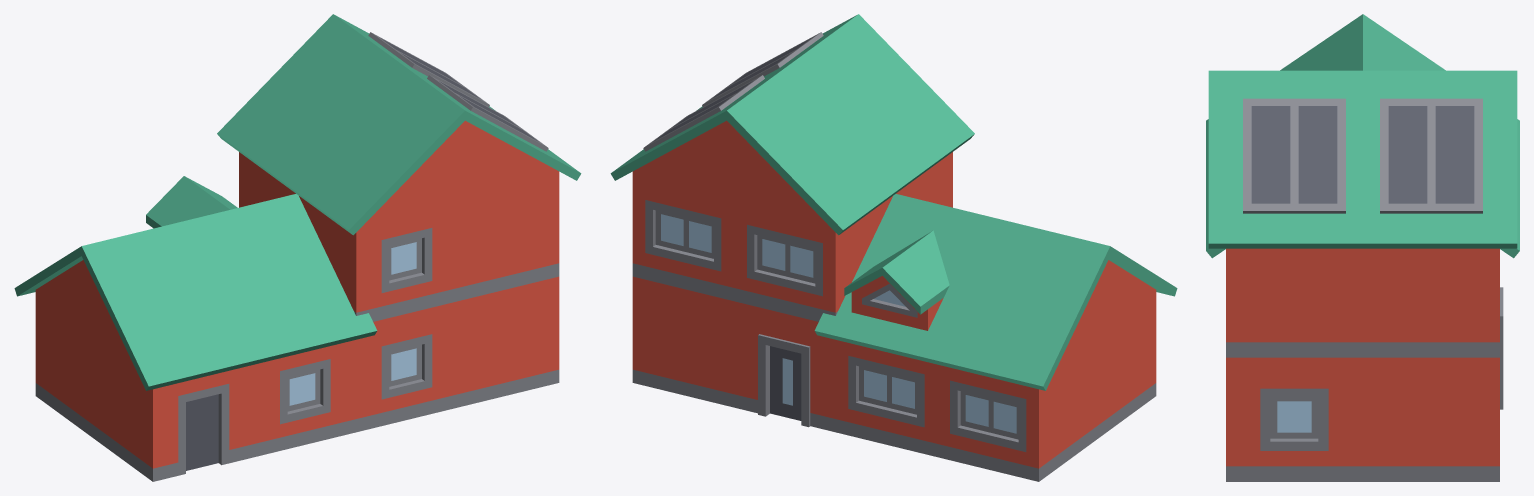
Rendered from house_type03.fbx.
3 views of the same model, side by side, from view 1: azimuth 30°, elevation 25°; view 2: azimuth 150°, elevation 25°; view 3: azimuth 270°, elevation 25° (orthographic). The views are drawn at different scales.
Visible parts, largest first — view 1: house_type03; view 2: house_type03; view 3: house_type03.
Boxes of the visible parts, left/top/right/bottom form: house_type03: left=14, top=14, right=581, bottom=481; house_type03: left=610, top=14, right=1177, bottom=481; house_type03: left=1206, top=14, right=1519, bottom=481.
Size of the model in its own units: 17.08 by 11.38 by 9.16.
